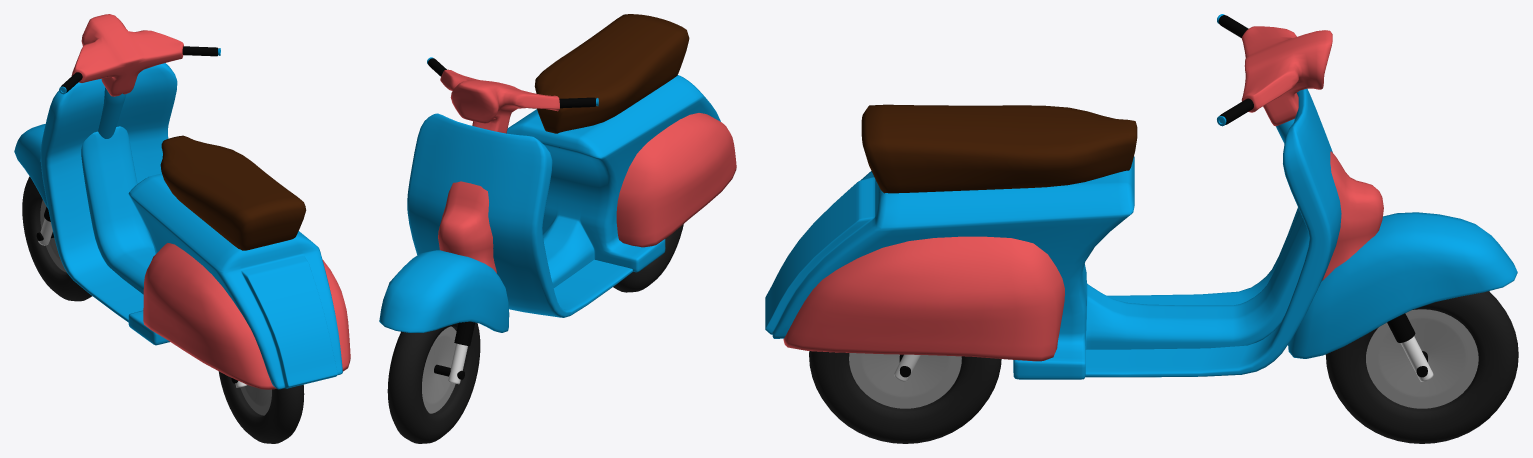
Rendered from vespa.glb.
The picture shows the model from 3 angles, left to right: view 1: azimuth 30°, elevation 25°; view 2: azimuth 150°, elevation 25°; view 3: azimuth 270°, elevation 25°; orthographic projection. The views are drawn at different scales.
Visible parts, largest first — view 1: Vespa; view 2: Vespa; view 3: Vespa.
Boxes of the visible parts, x1,y1,x2,y2 form: Vespa: (14,14,350,443); Vespa: (379,14,736,443); Vespa: (765,14,1518,443).
Size of the model in its own units: 0.7759 by 1.4 by 2.36.
